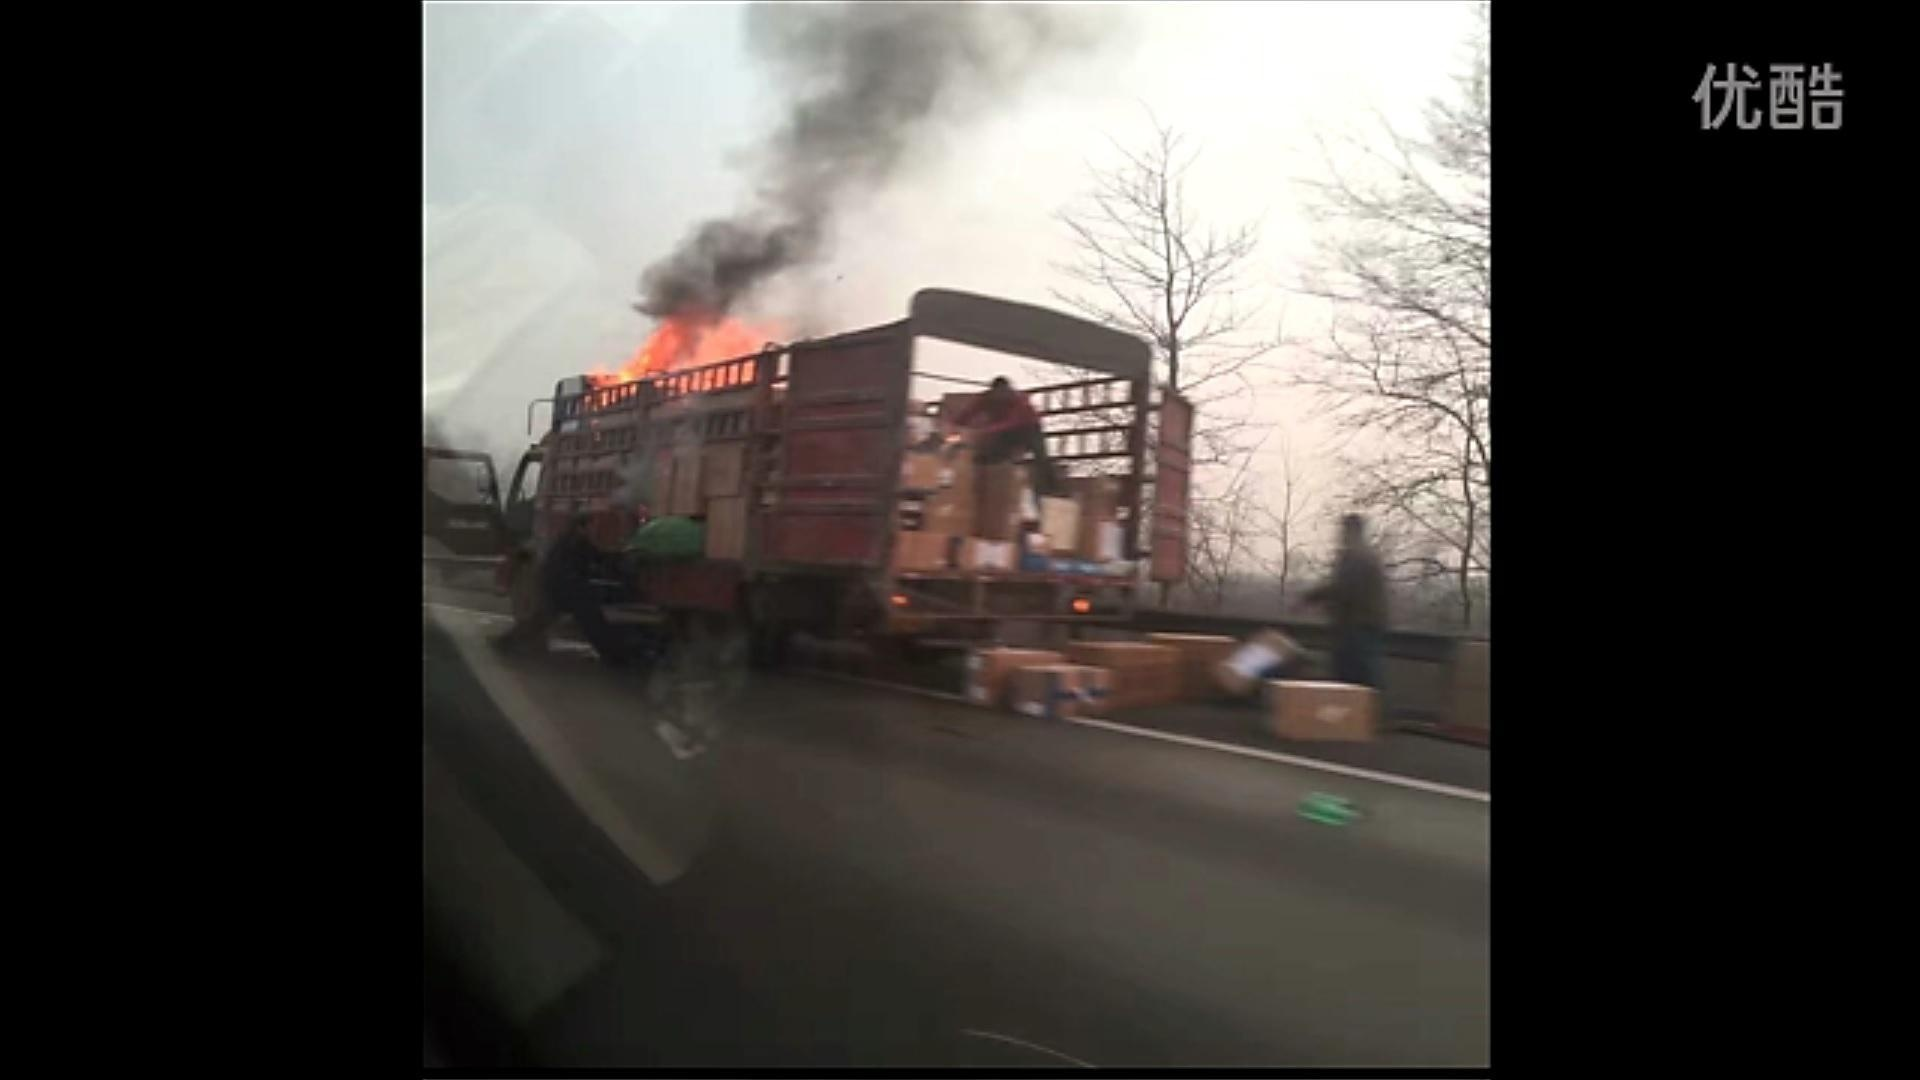fire: (592, 316, 775, 400)
